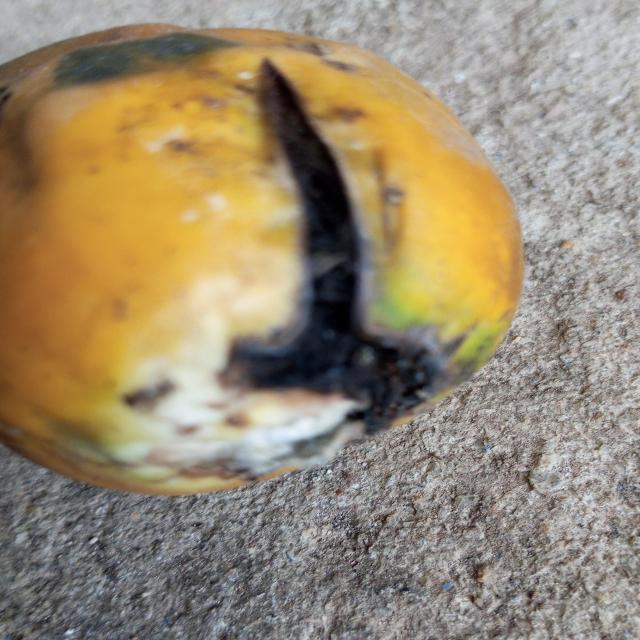damaged: (0, 23, 524, 499)
